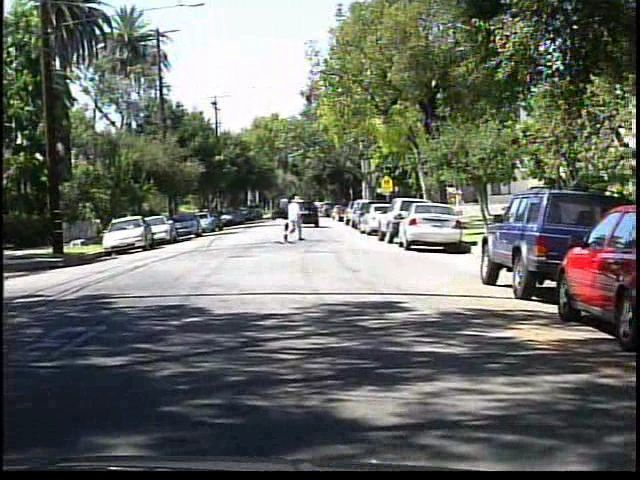person: (280, 195, 309, 245)
